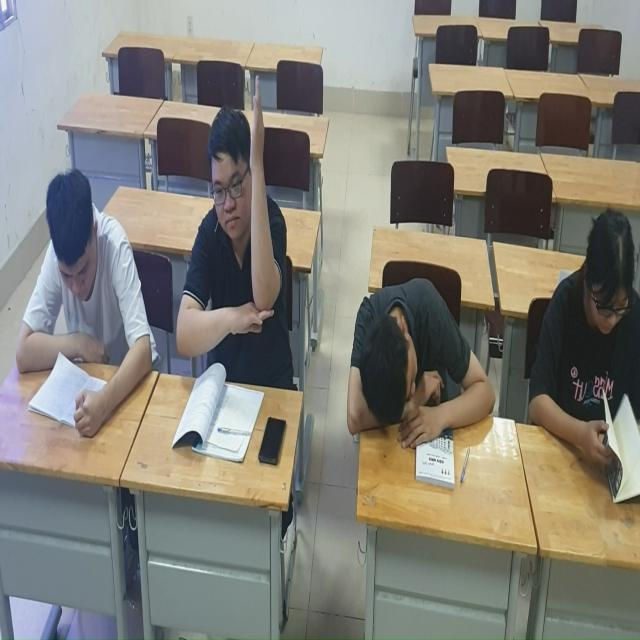raise_hand: (170, 70, 297, 414)
read: (7, 156, 156, 438), (514, 204, 640, 502)
sleep: (338, 270, 496, 468)
